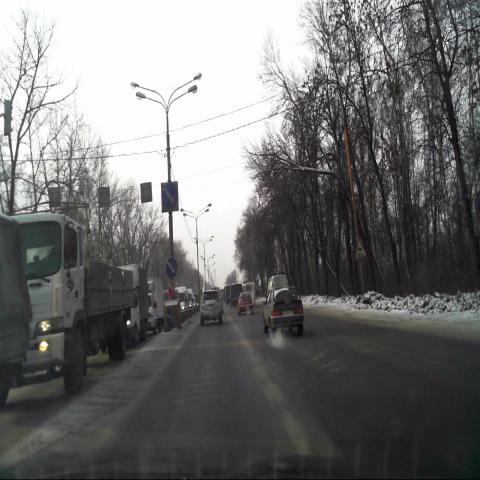4_2_1: (161, 181, 178, 213)
